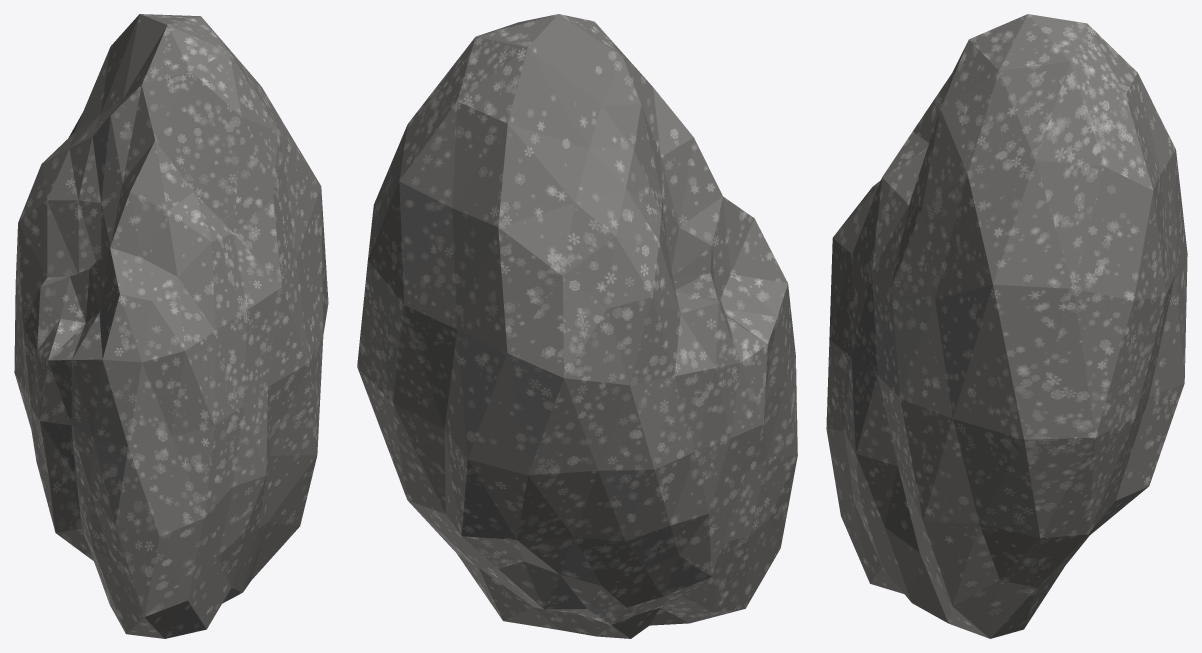
File: Rock_Spire.obj
The picture shows the model from 3 angles, left to right: view 1: azimuth 30°, elevation 25°; view 2: azimuth 150°, elevation 25°; view 3: azimuth 270°, elevation 25°; orthographic projection. The views are drawn at different scales.
Visible parts, largest first — view 1: Rock_Spire; view 2: Rock_Spire; view 3: Rock_Spire.
Part boxes in pixels (x1,y1,x2,y2): Rock_Spire: (14, 14, 328, 638); Rock_Spire: (357, 14, 797, 638); Rock_Spire: (826, 14, 1187, 638).
Size of the model in its own units: 2.65 by 4.45 by 2.45.
1 material, 1 textured.
